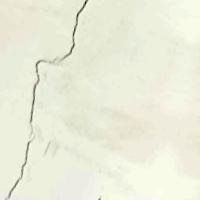crack: (2, 0, 84, 188)
